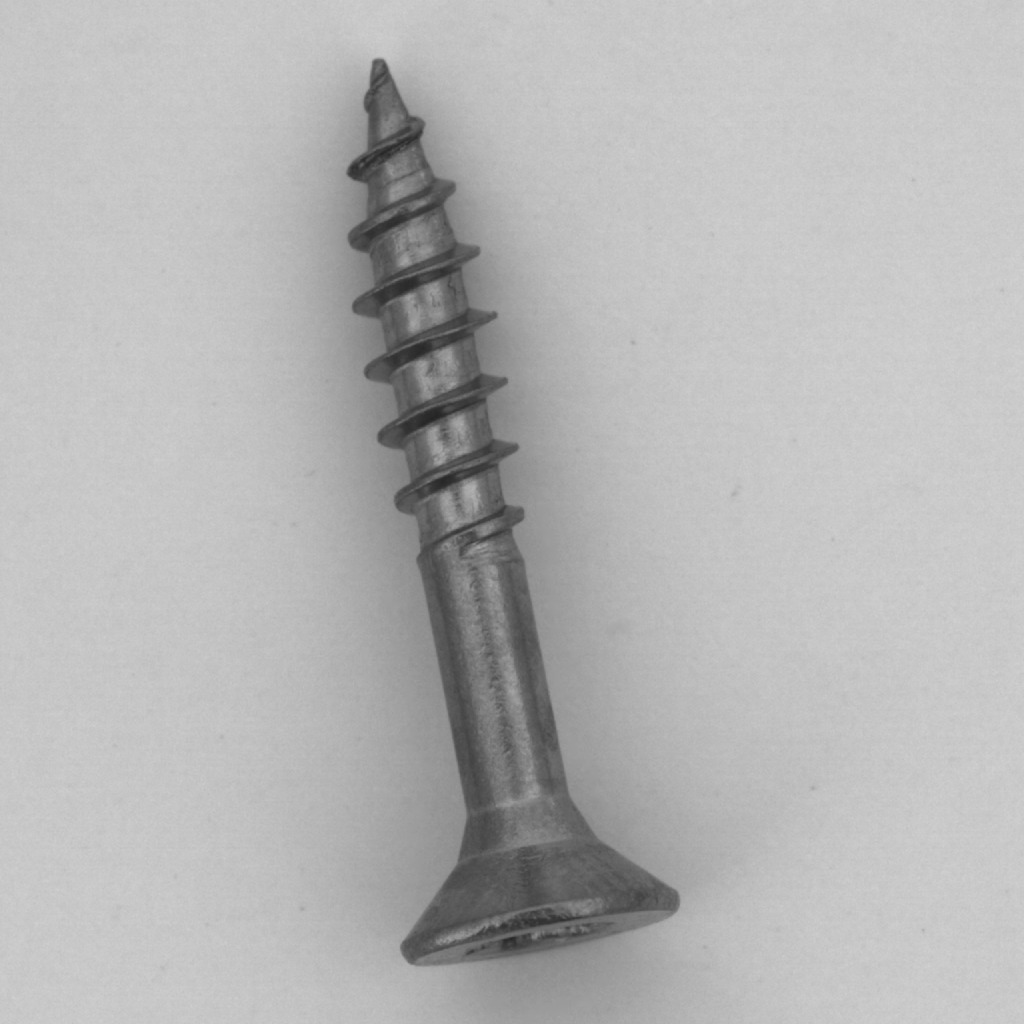good: (326, 37, 696, 983)
